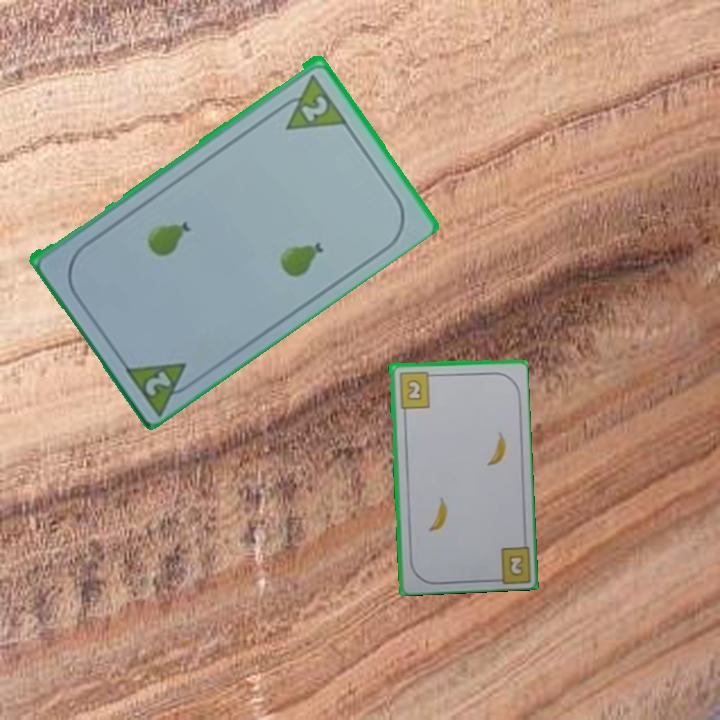2b: (395, 368, 437, 411), (505, 551, 526, 579)
2p: (271, 69, 349, 133), (141, 366, 175, 399)
